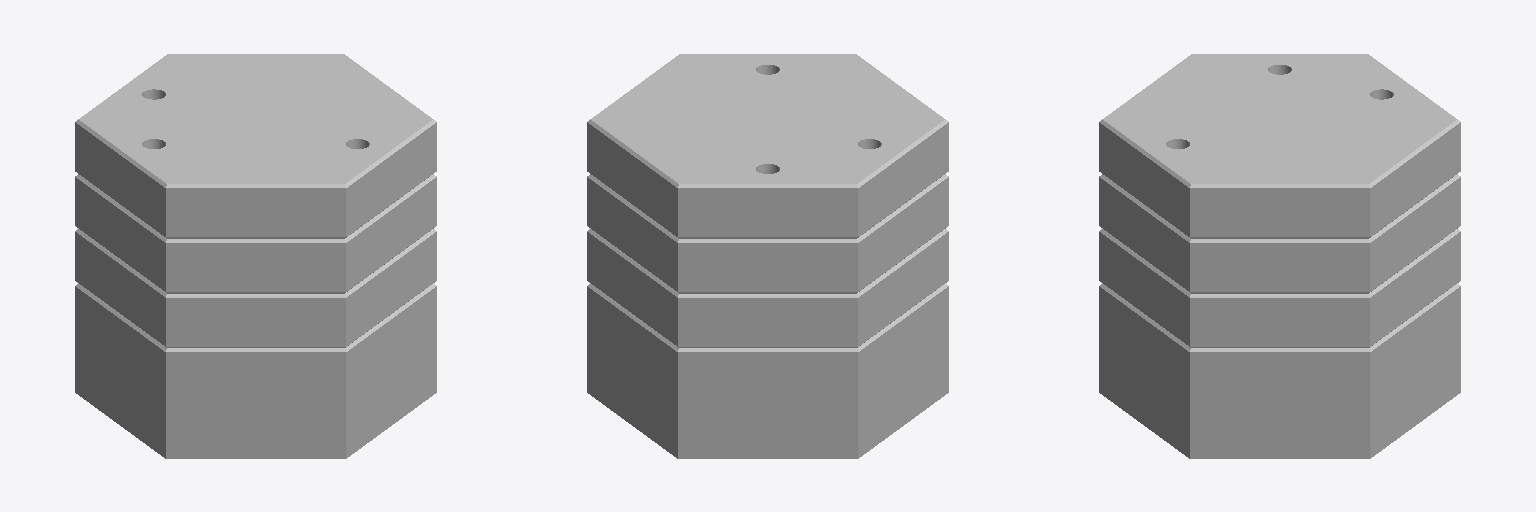
File: lvl4C.obj
3 renders of one model, left to right at view 1: azimuth 30°, elevation 25°; view 2: azimuth 150°, elevation 25°; view 3: azimuth 270°, elevation 25°, orthographic.
Parts seen in each view (by area): view 1: Lvl4C-3_(Mono-NoMags); view 2: Lvl4C-3_(Mono-NoMags); view 3: Lvl4C-3_(Mono-NoMags).
Boxes of the visible parts, <box> form: Lvl4C-3_(Mono-NoMags): <box>75,54,436,458</box>; Lvl4C-3_(Mono-NoMags): <box>587,54,948,458</box>; Lvl4C-3_(Mono-NoMags): <box>1099,54,1460,458</box>.
Bounding box in the file's own units: 3.13 × 3.02 × 3.62.